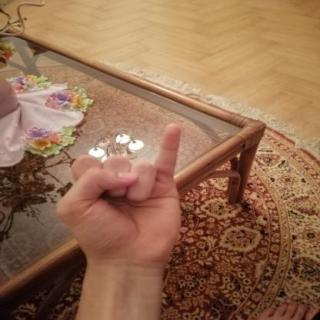MEEM: (37, 115, 201, 279)
